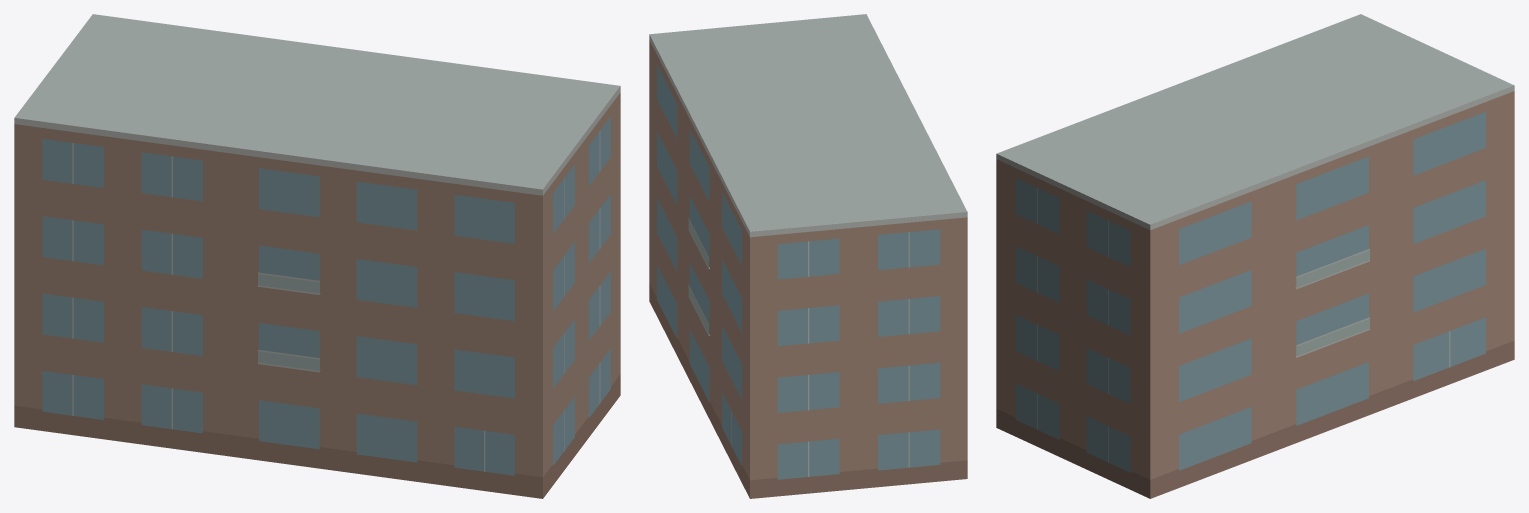
File: survey-upis-32840164.glb
3 views of the same model, side by side, from view 1: azimuth 30°, elevation 25°; view 2: azimuth 150°, elevation 25°; view 3: azimuth 270°, elevation 25° (orthographic). The views are drawn at different scales.
Parts seen in each view (by area): view 1: survey-upis-32840164.tmp; view 2: survey-upis-32840164.tmp; view 3: survey-upis-32840164.tmp.
Part boxes in pixels (bbox=[...]): survey-upis-32840164.tmp: bbox=[14, 14, 620, 498]; survey-upis-32840164.tmp: bbox=[649, 14, 967, 498]; survey-upis-32840164.tmp: bbox=[996, 14, 1514, 498].
Size of the model in its own units: 20.13 by 12.2 by 20.92.
